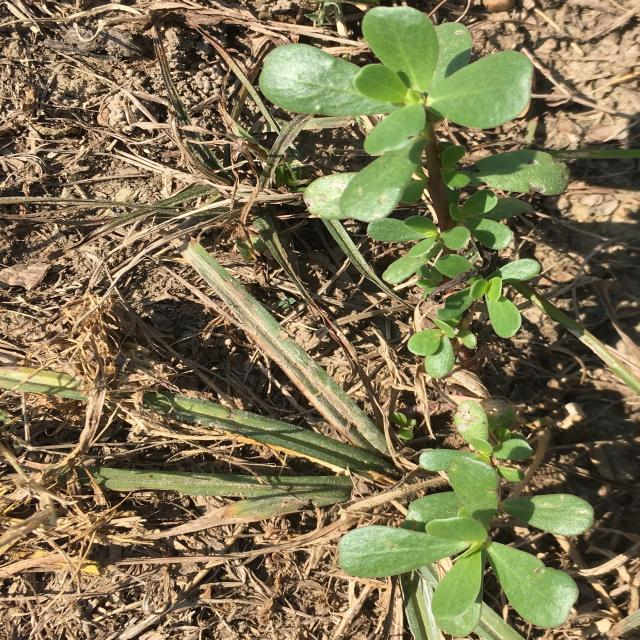Purslane: (259, 7, 570, 379), (337, 400, 596, 638)
